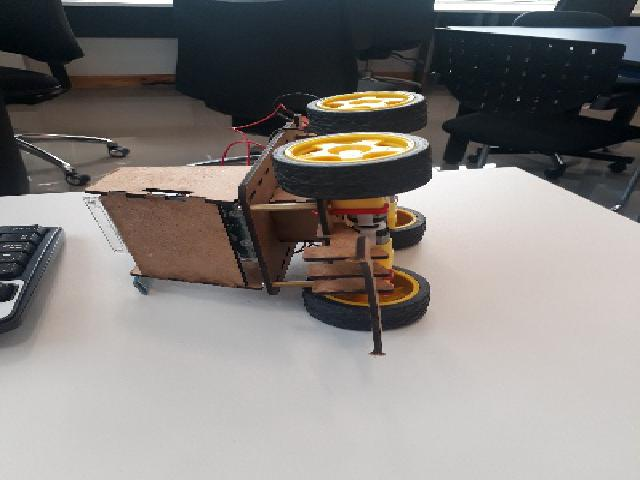Robot: (83, 90, 430, 355)
